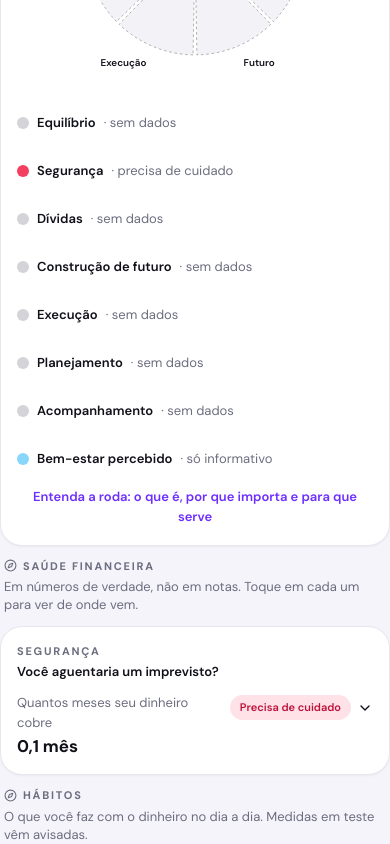
Test: MapaEntender › o botão de 'o que falta' abre a captura por conta própria; 'Não sei dizer' fecha sem gravar nada
The width and height of the screenshot is (390, 844).
(page scrolled)
Click the text "Quantos meses seu dinheiro cobre" at (117, 713), box [17,693,218,732]
(page scrolled)
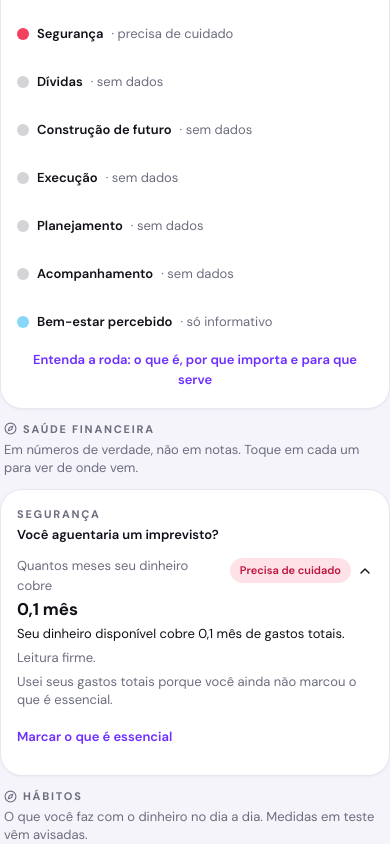
Click the button "Marcar o que é essencial" at (95, 737), box [17,715,172,759]
(page scrolled)
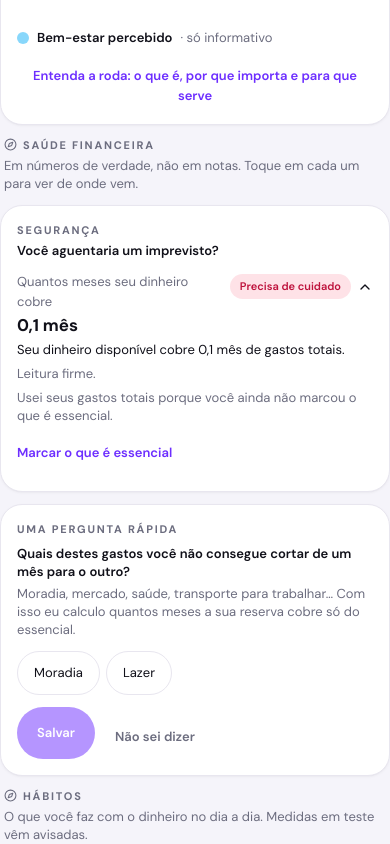
Check: the text "Quais destes gastos você não consegue cortar" is shown, box [17,545,351,580]
Click the button "Não sei dizer" at (155, 737), box [103,715,207,759]
(page scrolled)
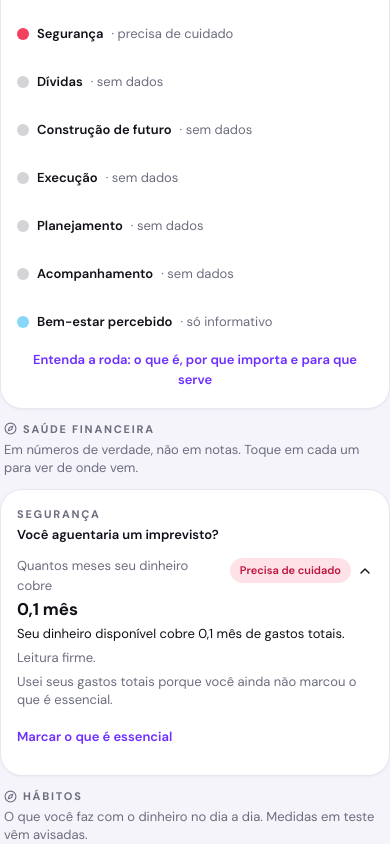
Check: the text "Quais destes gastos" is gone
